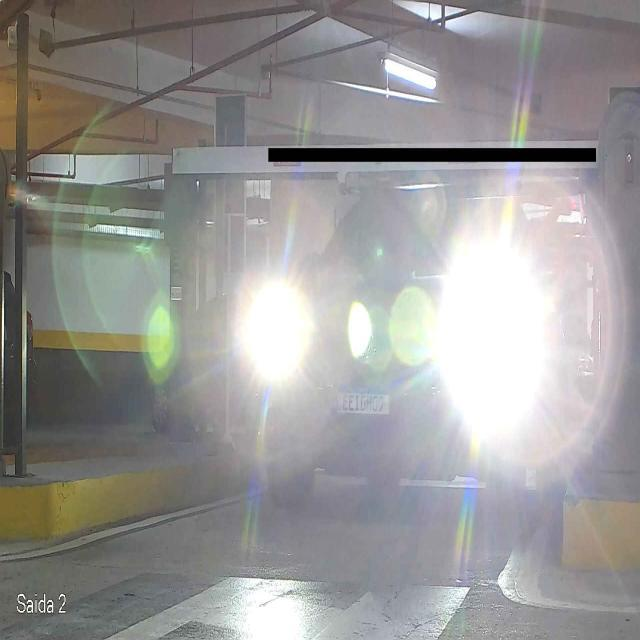mercosul_plate: (328, 382, 392, 417)
